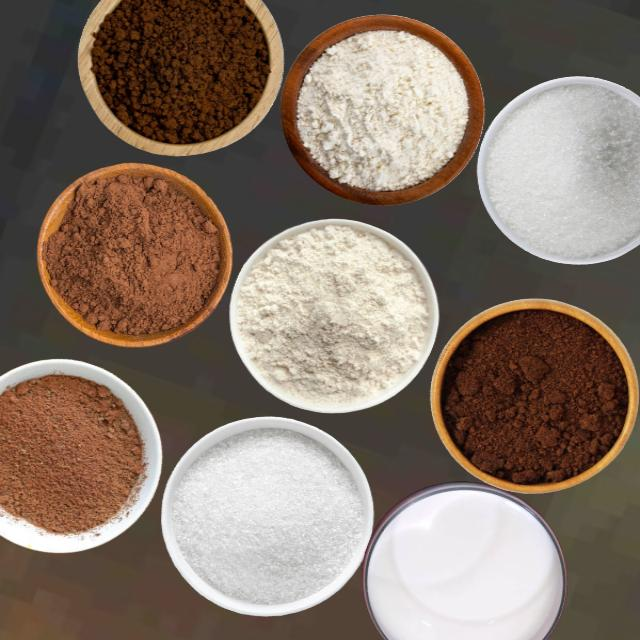Cocoa: (42, 166, 223, 338), (0, 373, 146, 535)
Coffee: (441, 306, 628, 485), (89, 0, 270, 145)
Flour: (233, 223, 429, 404), (295, 28, 468, 192)
Sugar: (170, 427, 365, 605), (484, 83, 639, 259)
